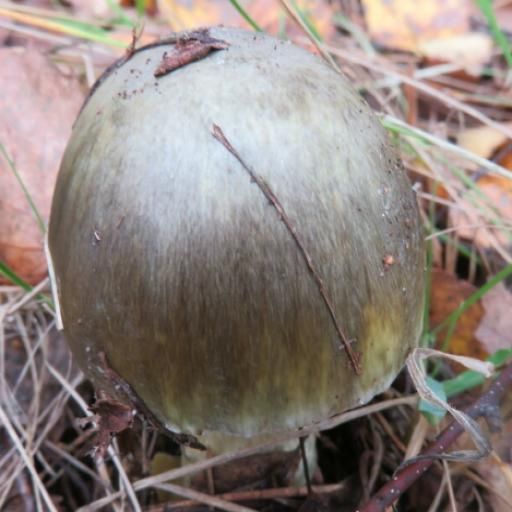mushroom: (0, 0, 468, 485)
